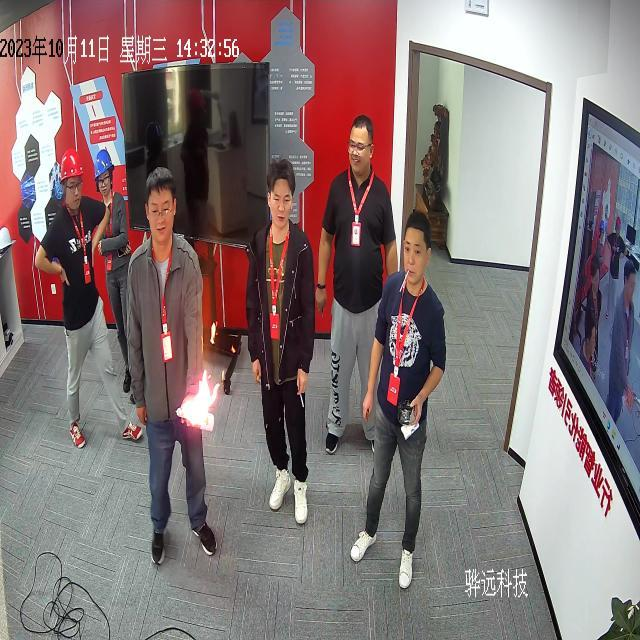Fire: (182, 372, 220, 428)
